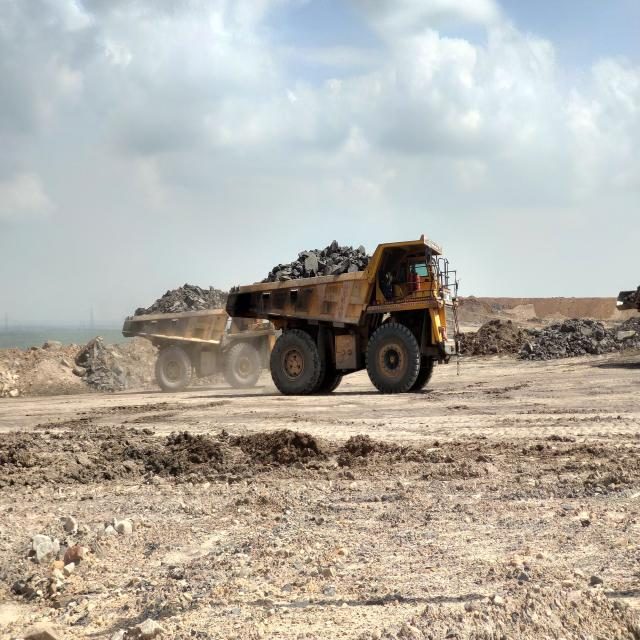dump_truck: (123, 237, 459, 397)
